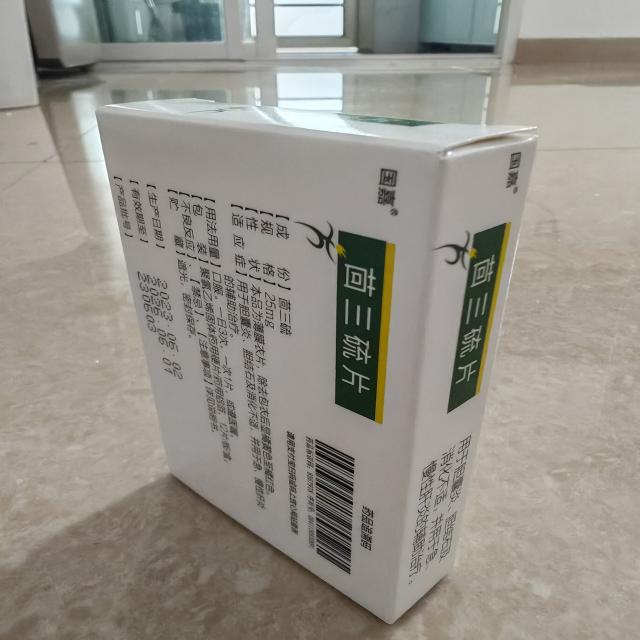box: (91, 90, 547, 630)
